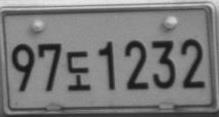1: (96, 40, 121, 90)
2: (180, 37, 206, 89), (123, 39, 149, 90)
3: (151, 39, 176, 89)
7: (37, 42, 61, 91)
9: (11, 42, 35, 93)
도: (66, 50, 91, 91)
